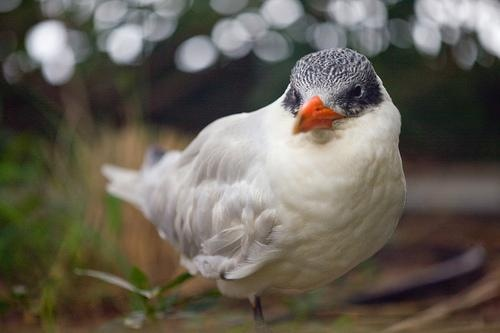bird: (102, 47, 402, 328)
